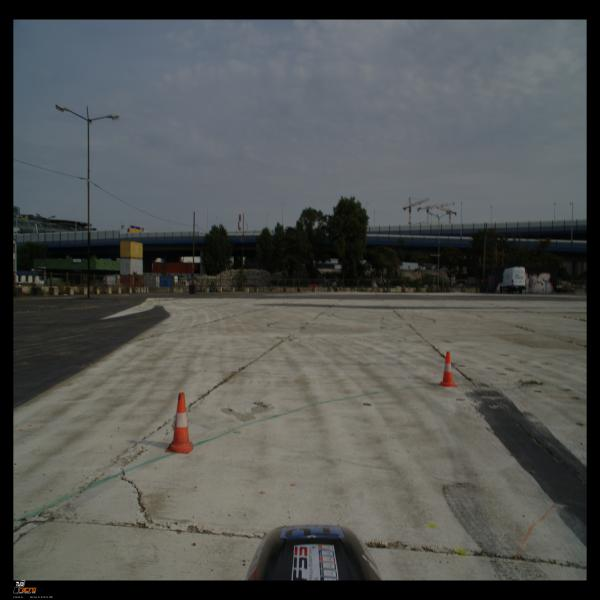orange_cone: (165, 392, 193, 454), (438, 351, 457, 387)
